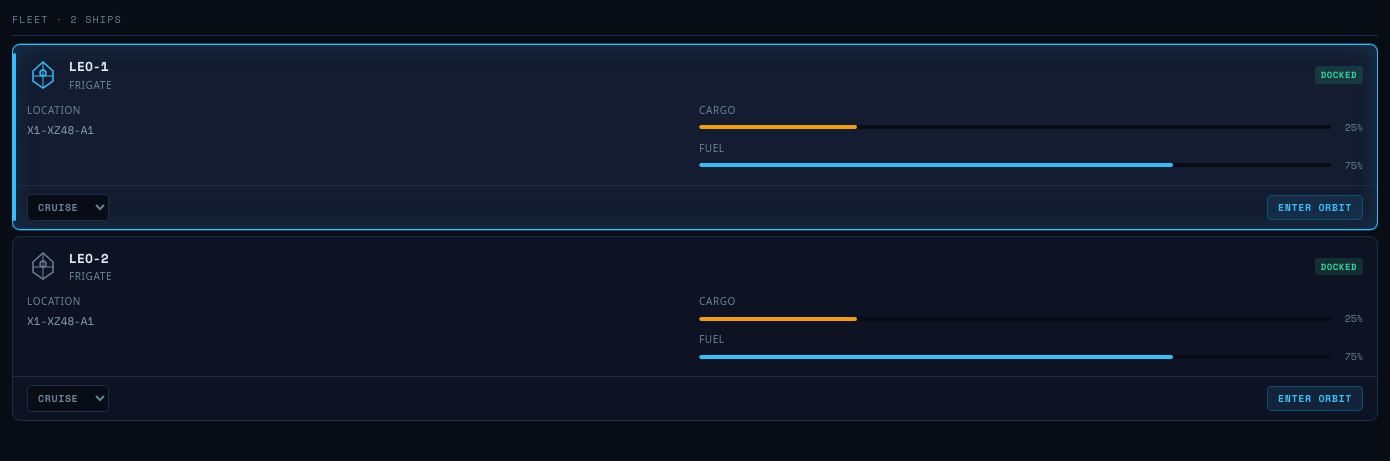
FleetList › changing one ship's flight mode does not disturb the others, and reports its own error
Select "BURN" in the 1st dropdown named "Flight mode" at coordinates (68, 207), box [27,194,109,220]
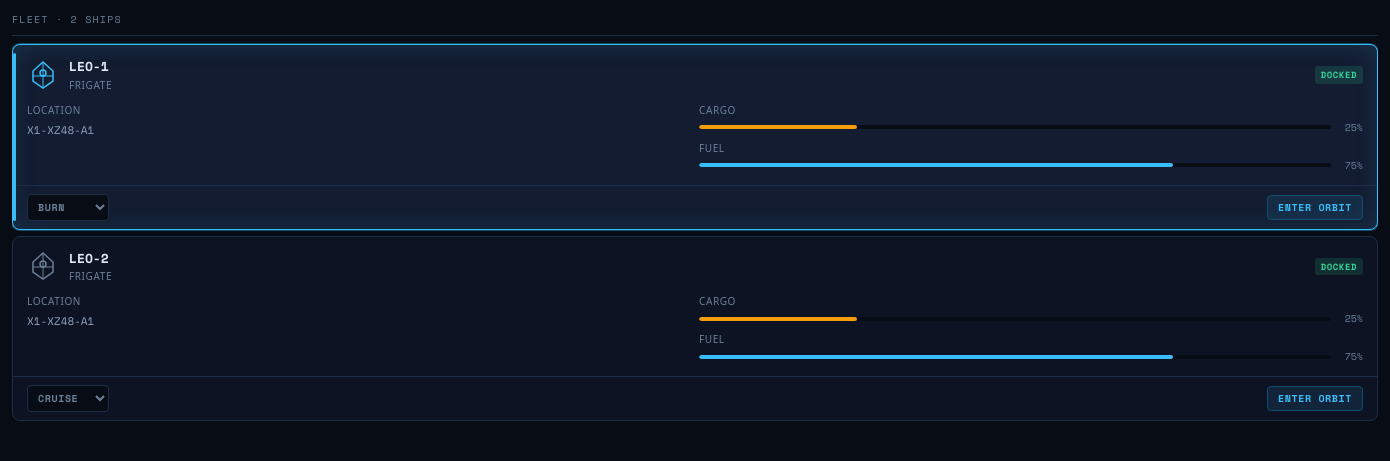
Check: the 2nd dropdown named "Flight mode" shows "CRUISE", box [27,385,109,412]
Select "DRIFT" in the 1st dropdown named "Flight mode" at coordinates (68, 207), box [27,194,109,220]
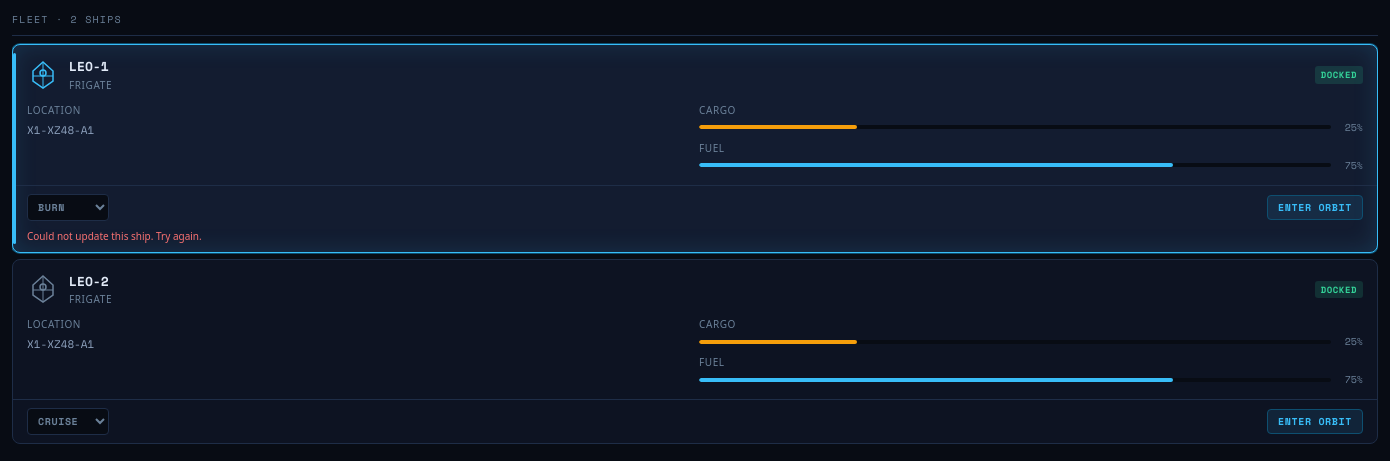
Check: the message "Could not update this ship. Try again." is shown, box [27,228,202,242]
